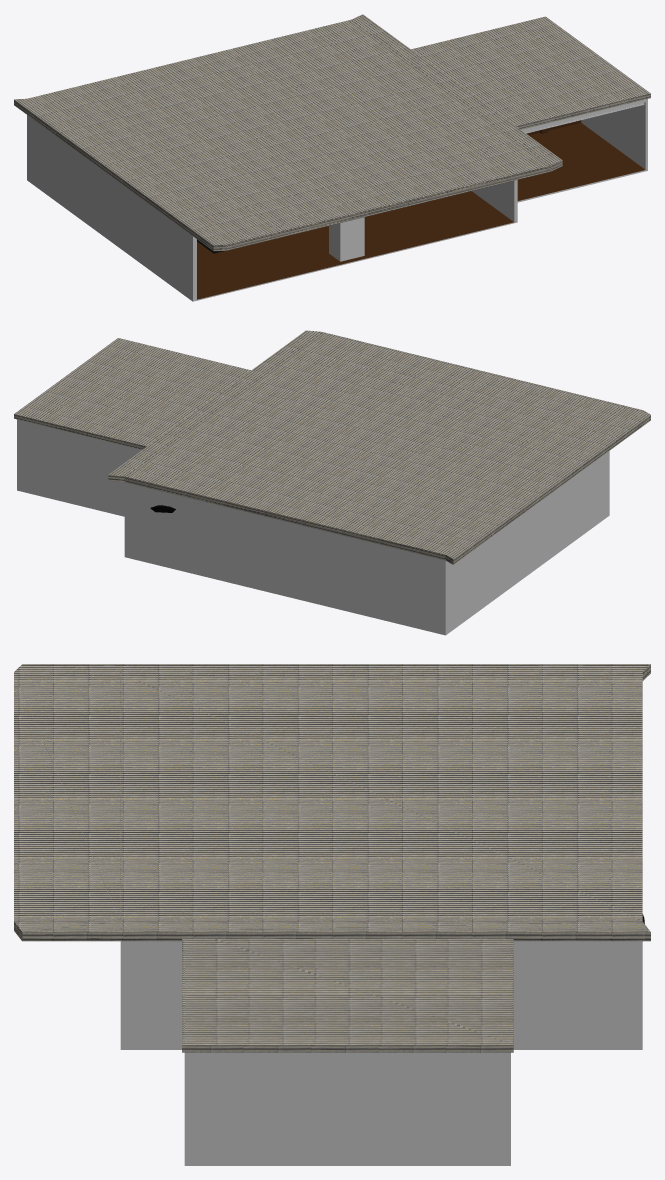
The model's file is Service.fbx.
3 views of the same model, one above another, from view 1: azimuth 30°, elevation 25°; view 2: azimuth 150°, elevation 25°; view 3: azimuth 270°, elevation 25° (orthographic). The views are drawn at different scales.
Visible parts, largest first — view 1: Cube; view 2: Cube; view 3: Cube.
Boxes of the visible parts, left/top/right/bottom form: Cube: left=14, top=14, right=650, bottom=301; Cube: left=14, top=330, right=650, bottom=635; Cube: left=14, top=664, right=650, bottom=1165.
Bounding box in the file's own units: 2474 × 508 × 1777.
